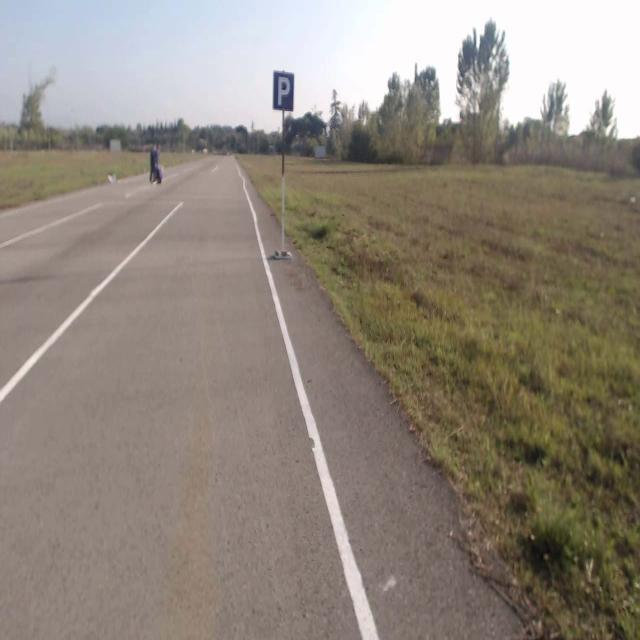park: (273, 71, 293, 110)
